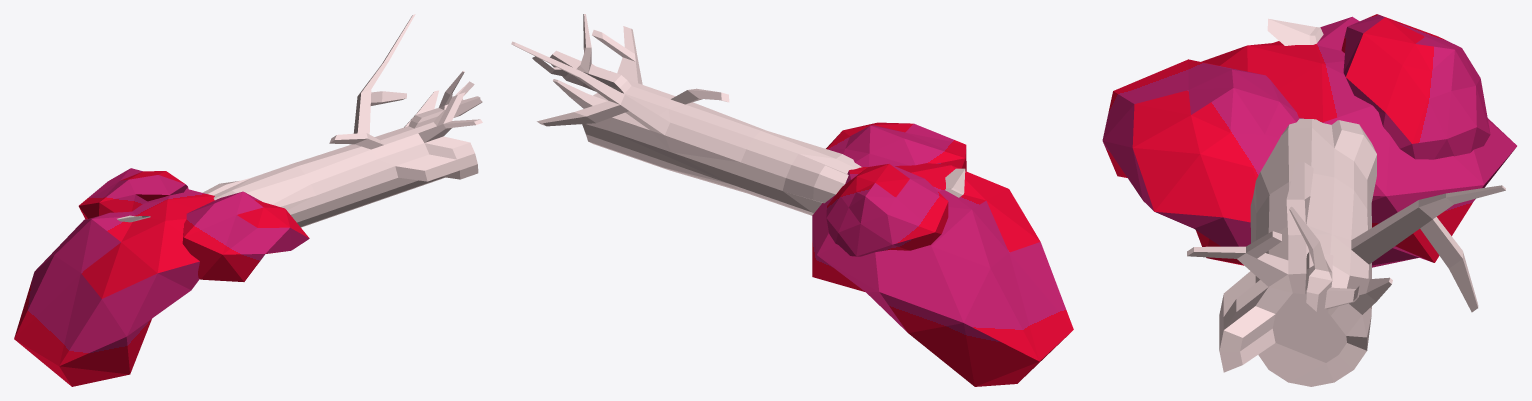
Rendered from c_old_tree.glb.
The picture shows the model from 3 angles, left to right: view 1: azimuth 30°, elevation 25°; view 2: azimuth 150°, elevation 25°; view 3: azimuth 270°, elevation 25°; orthographic projection. The views are drawn at different scales.
Parts seen in each view (by area): view 1: C_OldTree; view 2: C_OldTree; view 3: C_OldTree.
Part boxes in pixels (x1=…): C_OldTree: x1=14, y1=14, x2=482, y2=386; C_OldTree: x1=511, y1=14, x2=1073, y2=386; C_OldTree: x1=1102, y1=14, x2=1516, y2=386.
Bounding box in the file's own units: 8.15 × 4.14 × 3.41.
1 material, 1 textured.
